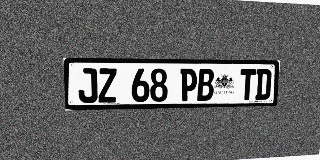6: (132, 68, 150, 102)
8: (150, 68, 168, 102)
B: (197, 69, 214, 101)
D: (255, 69, 272, 100)
J: (77, 68, 98, 103)
P: (180, 69, 197, 101)
T: (239, 69, 256, 100)
Z: (98, 68, 117, 103)
